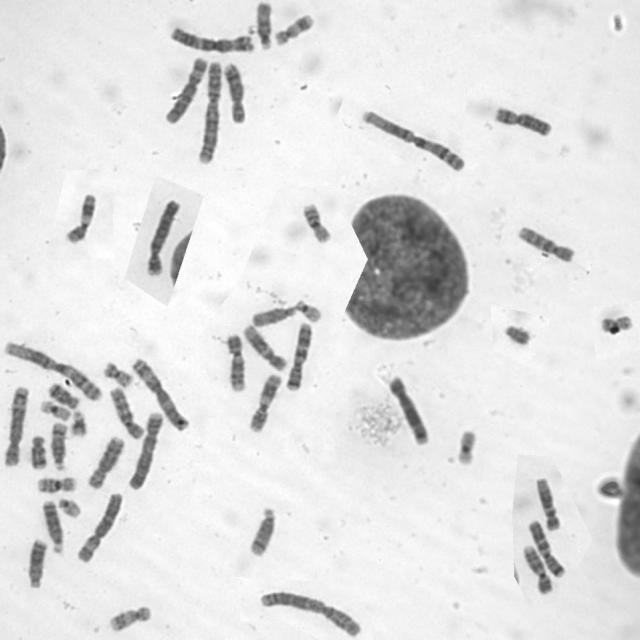A1: (358, 105, 468, 173), (1, 336, 106, 403)
A2: (256, 586, 365, 638), (194, 57, 224, 166)
A3: (129, 354, 192, 432), (166, 22, 256, 55)
B4: (142, 194, 182, 279), (126, 408, 165, 492)
B5: (386, 372, 432, 447), (1, 382, 30, 468)
C10: (514, 222, 577, 264), (107, 384, 146, 441)
C11: (246, 371, 284, 434), (62, 188, 98, 246)
C12: (240, 321, 289, 373), (532, 472, 563, 532)
C6: (74, 488, 125, 564), (161, 52, 209, 126)
C7: (524, 516, 568, 578), (282, 318, 315, 392)
C8: (85, 432, 126, 490), (220, 60, 247, 124)
C9: (518, 541, 554, 595), (222, 330, 248, 393)
D13: (38, 496, 66, 555), (26, 536, 48, 590)
D14: (246, 502, 280, 558), (48, 419, 70, 472)
D15: (250, 300, 298, 328), (254, 0, 274, 52)
E16: (298, 198, 334, 244), (33, 472, 79, 493)
E17: (271, 9, 318, 47), (104, 601, 154, 633)
E18: (44, 380, 81, 410), (27, 432, 49, 471)
F19: (452, 425, 480, 467), (36, 397, 71, 422)
F20: (597, 309, 636, 336), (100, 358, 135, 388)
G21: (66, 406, 89, 438)
G22: (294, 295, 324, 324), (54, 494, 83, 519)
X: (491, 102, 556, 138)
Y: (500, 321, 533, 346)
